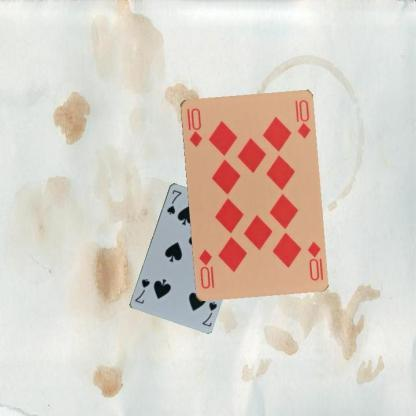10d: (184, 105, 204, 148), (304, 239, 324, 282)
7s: (164, 187, 183, 216), (200, 298, 218, 328)
